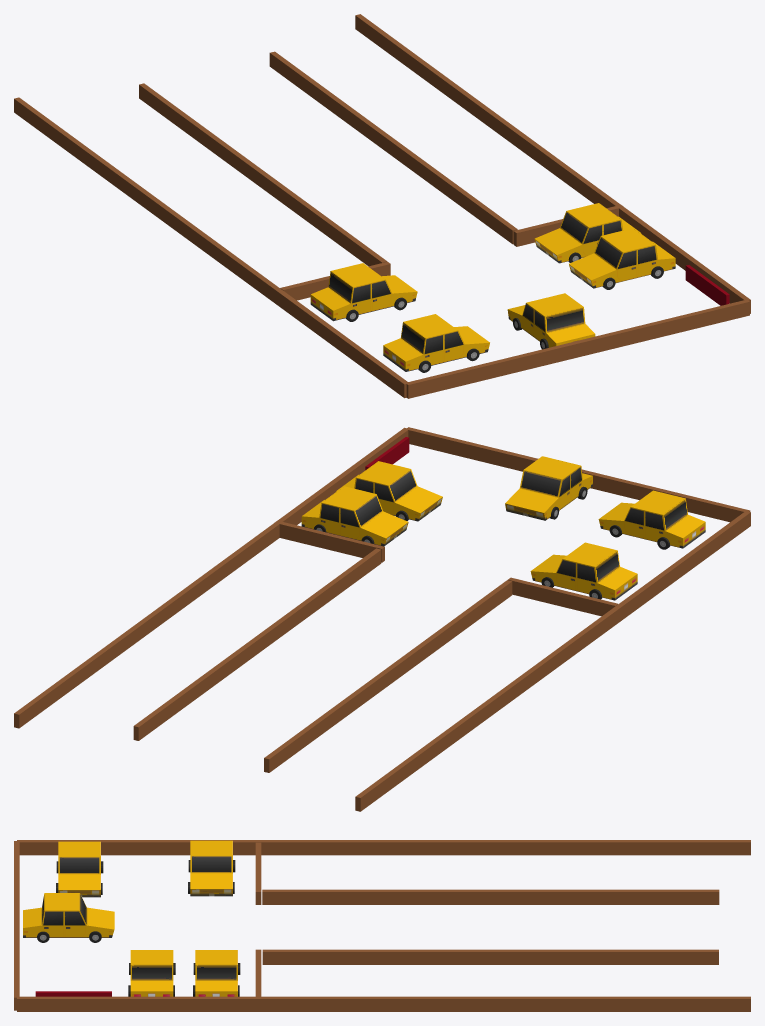
File: mapa2.glb
3 views of the same model, one above another, from view 1: azimuth 30°, elevation 25°; view 2: azimuth 150°, elevation 25°; view 3: azimuth 270°, elevation 25° (orthographic). The views are drawn at different scales.
Visible parts, largest first — view 1: collider_curb.010, collider_curb.011, collider_curb.012, collider_Car_04.001, collider_Car_04.003, collider_Car_04.000, collider_Car_04.002, collider_Car_04.004, collider_curb.002, collider_curb, collider_curb.003, collider_curb.009 (+7 smaller); view 2: collider_curb.010, collider_curb.011, collider_curb.012, collider_Car_04.000, collider_Car_04.003, collider_Car_04.002, collider_Car_04.004, collider_Car_04.001, collider_curb.008, collider_curb.001, collider_curb.009, collider_curb (+6 smaller); view 3: collider_curb.011, collider_curb.010, collider_Car_04.004, collider_Car_04.003, collider_Car_04.000, collider_Car_04.001, collider_Car_04.002, collider_curb.002, collider_curb.005, collider_curb.009, collider_curb.007, collider_curb.004 (+7 smaller).
Boxes of the visible parts, x1,y1,x2,y2 form: collider_curb.010: (14, 97, 409, 398); collider_curb.011: (355, 14, 750, 313); collider_curb.012: (406, 300, 749, 398); collider_Car_04.001: (569, 228, 675, 289); collider_Car_04.003: (310, 263, 417, 321); collider_Car_04.000: (383, 314, 489, 372); collider_Car_04.002: (534, 203, 641, 263); collider_Car_04.004: (507, 293, 595, 349); collider_curb.002: (451, 184, 517, 244); collider_curb: (139, 83, 205, 143); collider_curb.003: (331, 96, 397, 156); collider_curb.009: (269, 51, 335, 110); collider_curb.010: (355, 511, 750, 811); collider_curb.011: (14, 427, 408, 728); collider_curb.012: (407, 427, 750, 522); collider_Car_04.000: (598, 490, 705, 549); collider_Car_04.003: (530, 542, 637, 600); collider_Car_04.002: (301, 486, 408, 546); collider_Car_04.004: (505, 456, 592, 520); collider_Car_04.001: (336, 461, 442, 521); collider_curb.008: (508, 577, 617, 616); collider_curb.001: (275, 520, 384, 562); collider_curb.009: (133, 681, 200, 740); collider_curb: (264, 714, 331, 772); collider_curb.011: (17, 996, 750, 1011); collider_curb.010: (17, 840, 750, 855); collider_Car_04.004: (23, 893, 114, 942); collider_Car_04.003: (188, 840, 235, 896); collider_Car_04.000: (56, 841, 103, 897); collider_Car_04.001: (128, 950, 175, 996); collider_Car_04.002: (193, 950, 240, 996); collider_curb.002: (262, 949, 379, 964); collider_curb.005: (377, 889, 494, 904); collider_curb.009: (602, 949, 718, 964); collider_curb.007: (494, 889, 610, 904); collider_curb.004: (262, 889, 378, 904).
Bounding box in the file's own units: 24.78 × 2.28 × 48.54.
3 materials, 1 textured.
